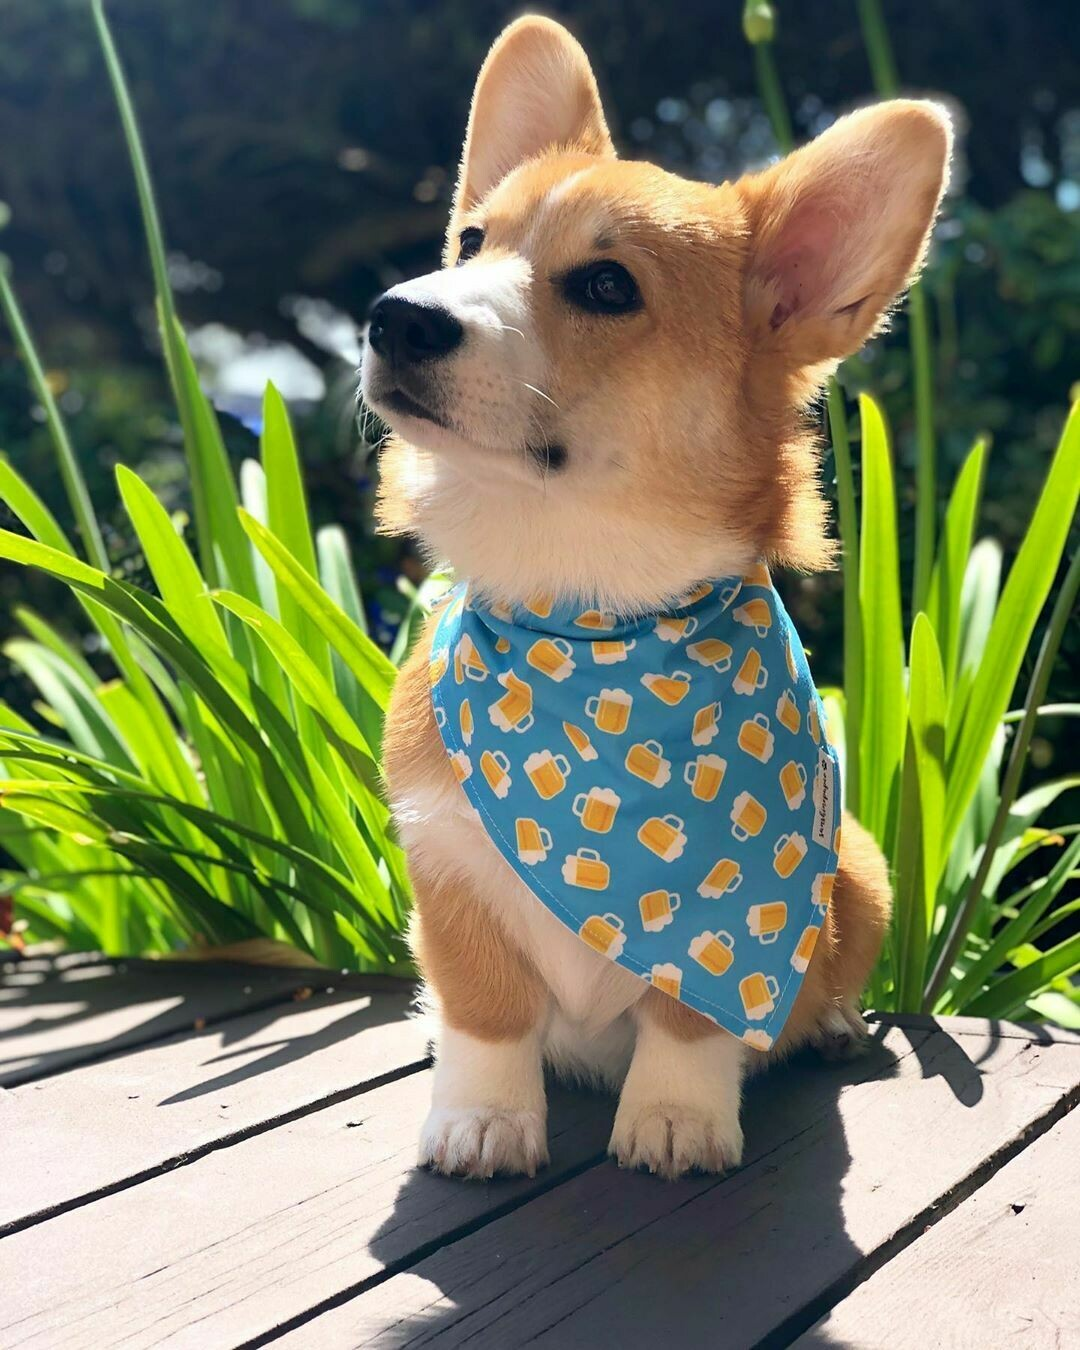corgi: (347, 11, 964, 1202)
